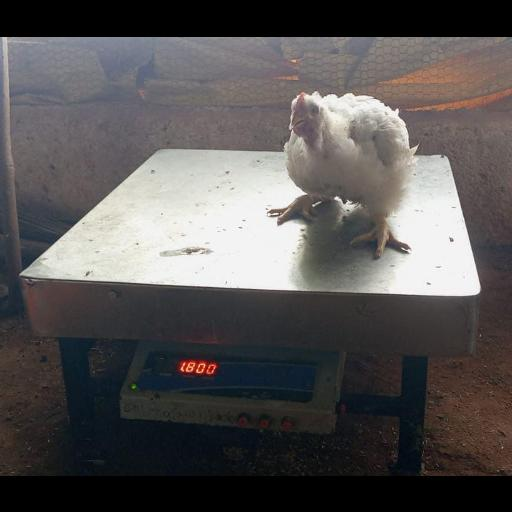chick: (272, 91, 418, 257)
